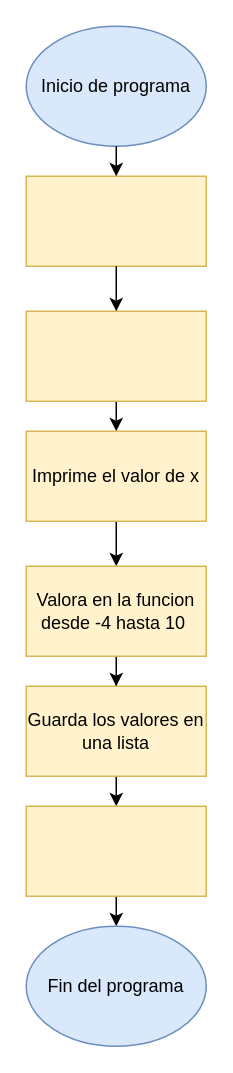
This 233x1073 diagram has some shape labels left out. Each missing label, with the centre of its shape:
Calcula el valor de x: point 115,355
Imprime los valores que sean menores a 30: point 115,850
Introduce el valor de x: point 115,220
